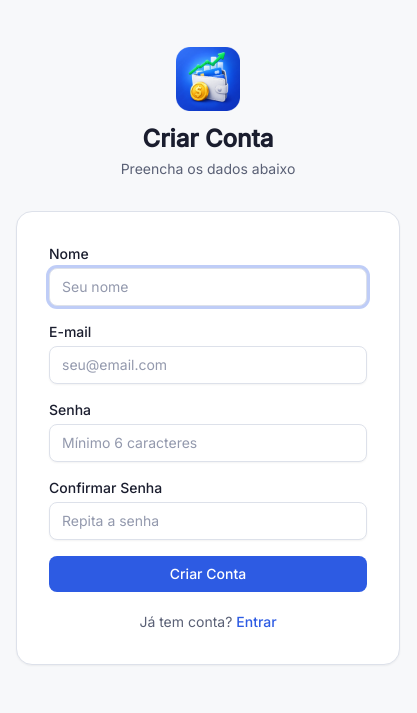
it: Register › erro HTTP mostra a mensagem do backend
Type "Ana" into the field labelled "Nome" at {"x": 208, "y": 287}, box [49, 268, 367, 306]
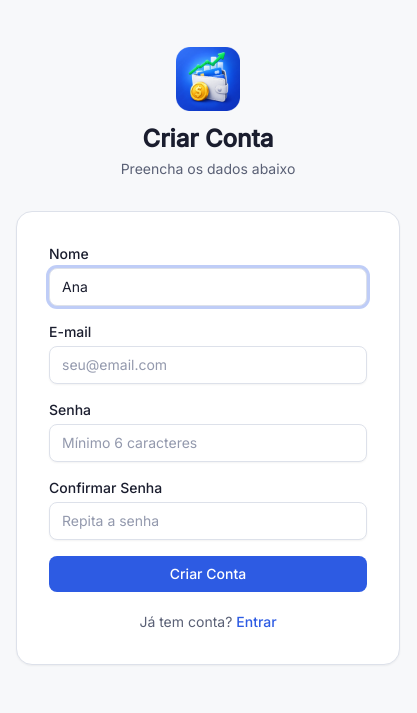
Type "ana@exemplo.com" into the field labelled "E-mail" at {"x": 208, "y": 365}, box [49, 346, 367, 384]
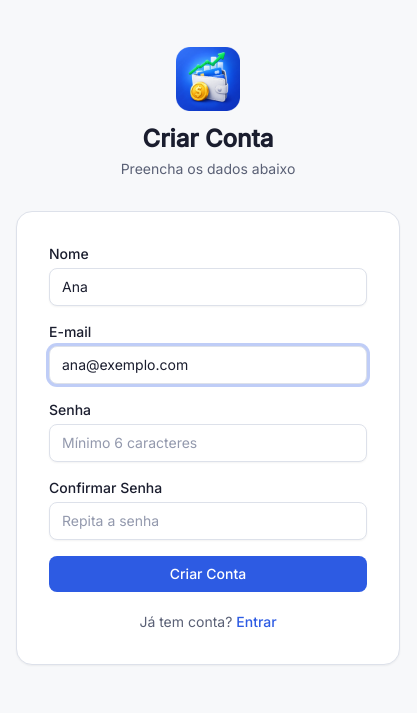
Type "segredo1" into the password field labelled "Senha" at {"x": 208, "y": 443}, box [49, 424, 367, 462]
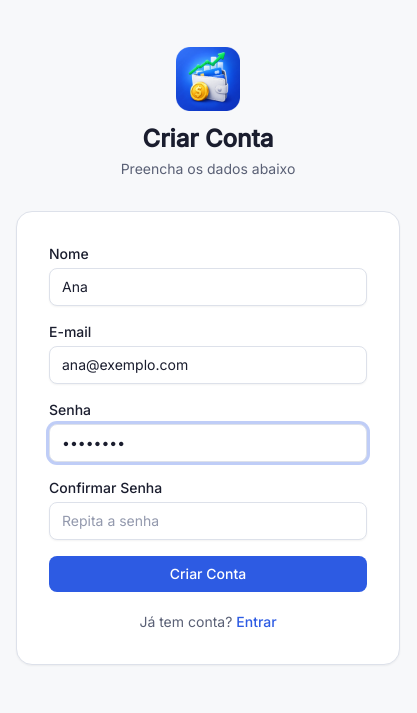
Type "segredo1" into the password field labelled "Confirmar Senha" at {"x": 208, "y": 521}, box [49, 502, 367, 540]
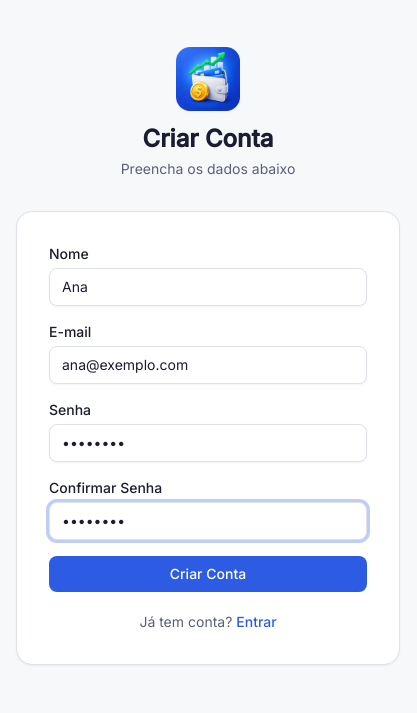
Click the button "Criar Conta" at {"x": 208, "y": 574}, box [49, 556, 367, 592]
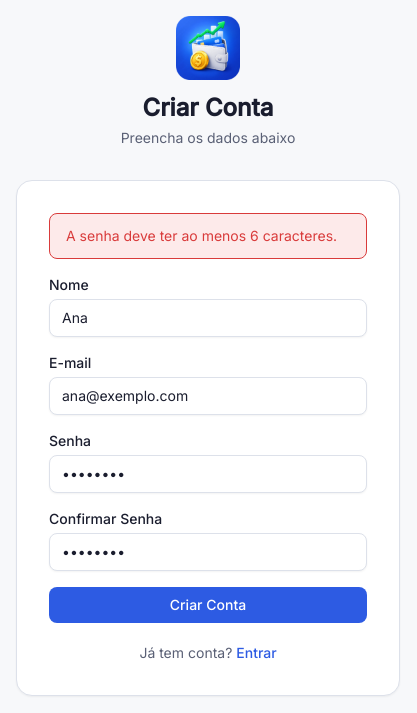
Result: the text "A senha deve ter ao menos 6 caracteres." is shown at [49, 213, 367, 259]
